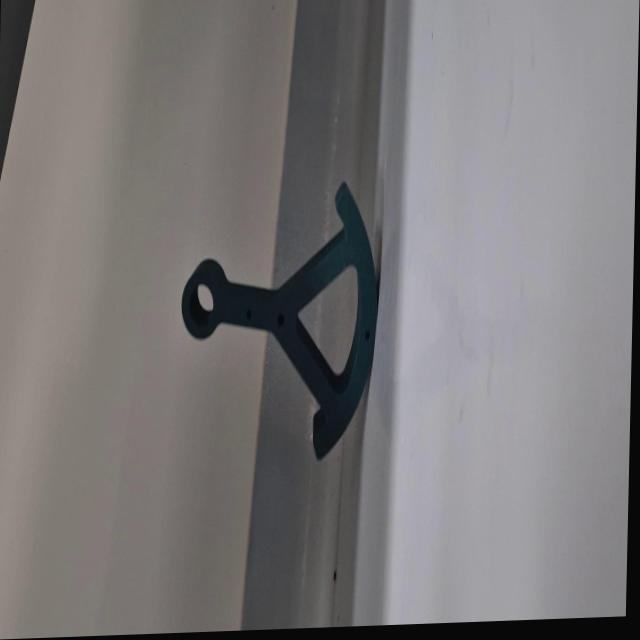haptic: (175, 177, 382, 469)
